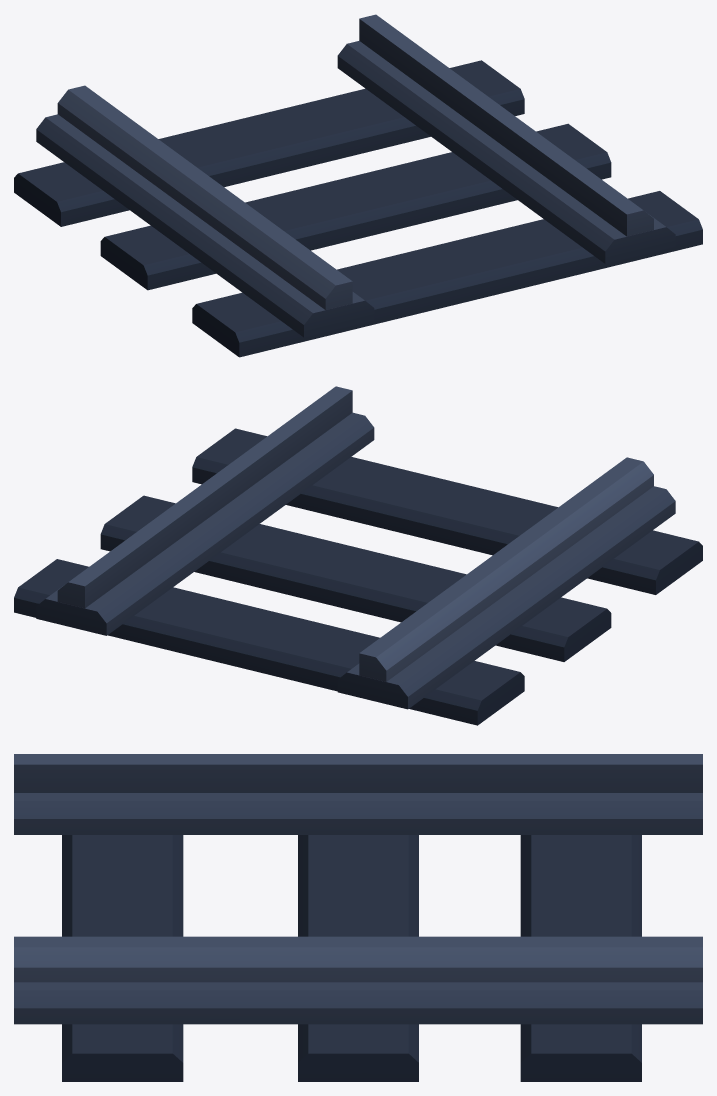
The model's file is Rail Track 01.FBX.
The picture shows the model from 3 angles, top to bottom: view 1: azimuth 30°, elevation 25°; view 2: azimuth 150°, elevation 25°; view 3: azimuth 270°, elevation 25°; orthographic projection. The views are drawn at different scales.
Parts seen in each view (by area): view 1: Rail Track 01; view 2: Rail Track 01; view 3: Rail Track 01.
Part boxes in pixels (x1,y1,x2,y2): Rail Track 01: (14, 14, 702, 357); Rail Track 01: (14, 386, 702, 725); Rail Track 01: (14, 754, 702, 1081).
Bounding box in the file's own units: 200 × 27.46 × 200.
Materials: 1 (1 with a texture image).
